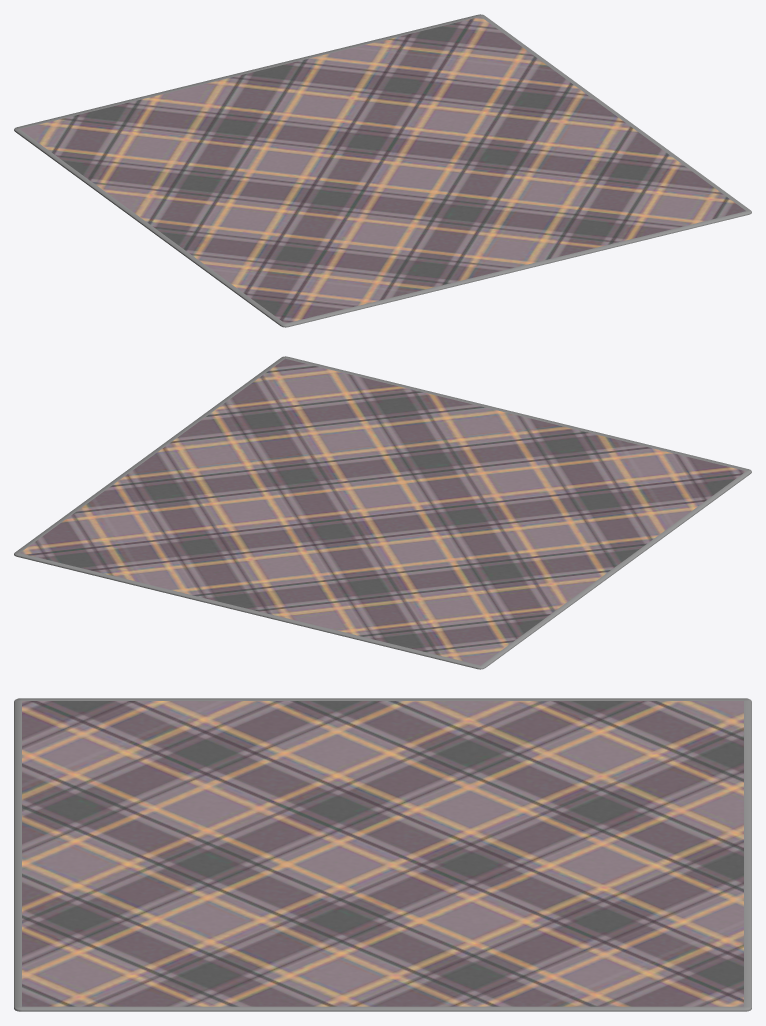
File: carpet_00101.FBX
3 views of the same model, one above another, from view 1: azimuth 30°, elevation 25°; view 2: azimuth 150°, elevation 25°; view 3: azimuth 270°, elevation 25° (orthographic). The views are drawn at different scales.
Parts seen in each view (by area): view 1: carpet_00101; view 2: carpet_00101; view 3: carpet_00101.
Boxes of the visible parts, x1,y1,x2,y2 form: carpet_00101: (14,14,751,327); carpet_00101: (14,356,751,669); carpet_00101: (14,698,751,1011).
Size of the model in its own units: 614 by 1.85 by 614.
Materials: 2 (1 with a texture image).
